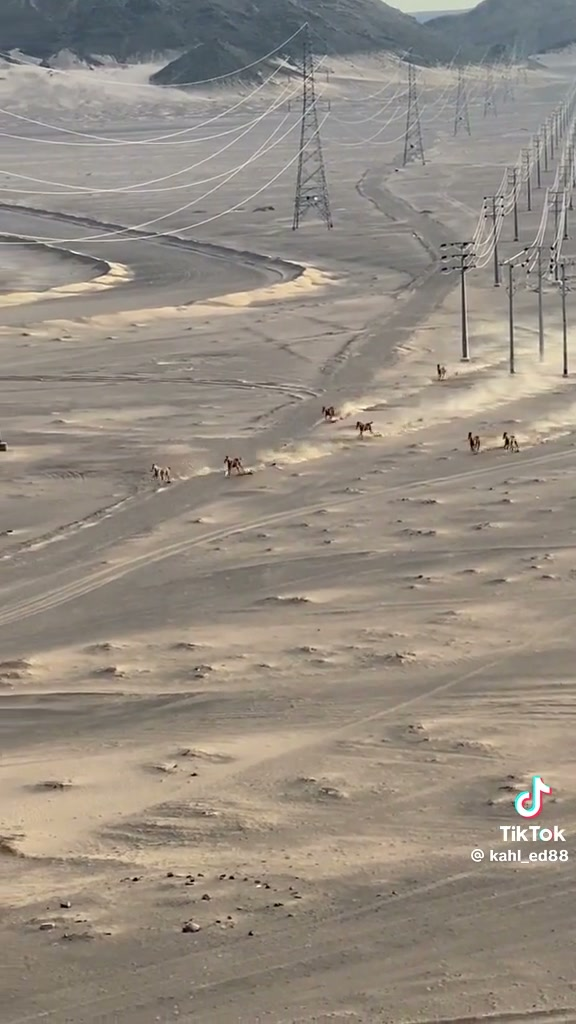animal: (224, 456, 245, 476), (151, 464, 171, 482), (355, 421, 372, 438), (467, 432, 480, 452), (322, 405, 336, 420)
vehicle_track: (0, 502, 323, 626), (298, 614, 570, 753), (193, 870, 477, 997), (3, 372, 317, 399)
